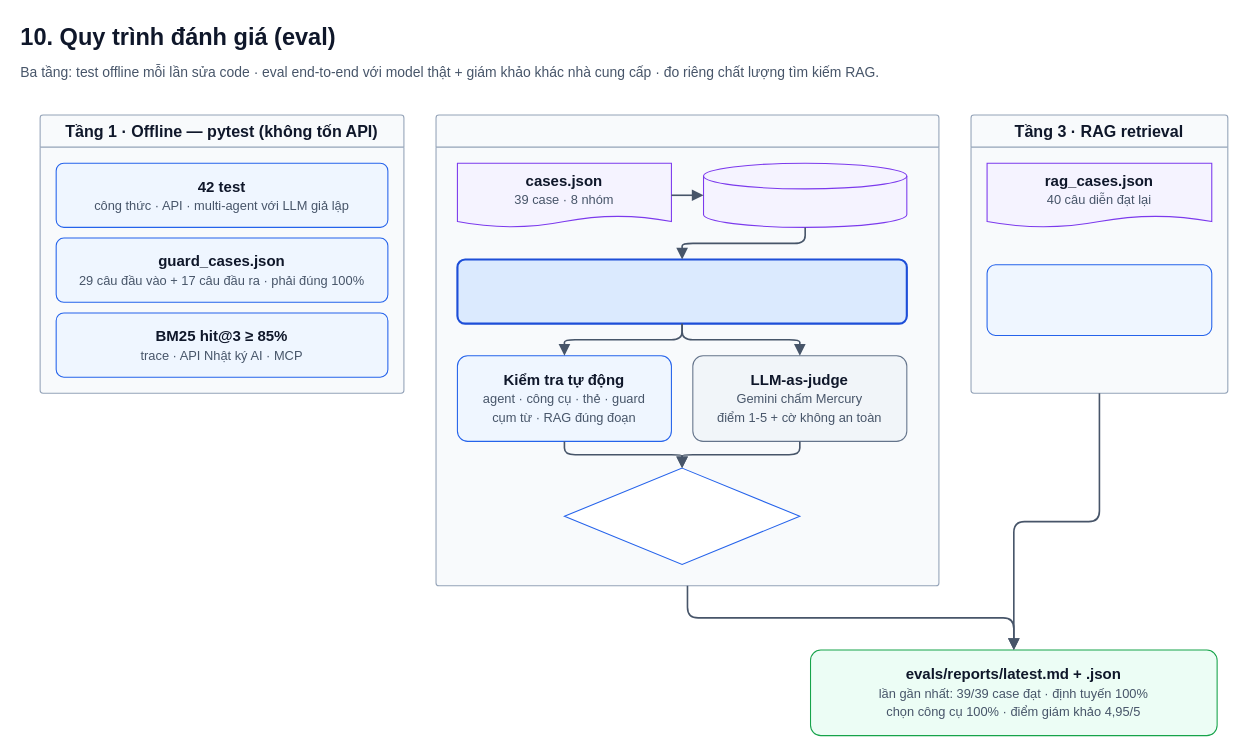
Some shapes in this 1247 by 754 pixel diagram are drawn without their labels. The shapes that lost their labels are listed below. From the top down, each one's box as (x1, y1, x2, y2) in pixels, then its label:
(702, 162, 907, 227): DB tạm + tài khoản demo
(456, 258, 907, 324): Chạy nguyên pipeline guard → router → agent → công cụ → guard ra
(986, 264, 1212, 335): BM25 / vector / hybrid hit@1 · hit@3 · MRR
(435, 114, 939, 586): Tầng 2 · End-to-end với model thật — evals/run_eval.py
(563, 467, 800, 564): Đạt khi qua kiểm tra + điểm ≥ 4 + an toàn
